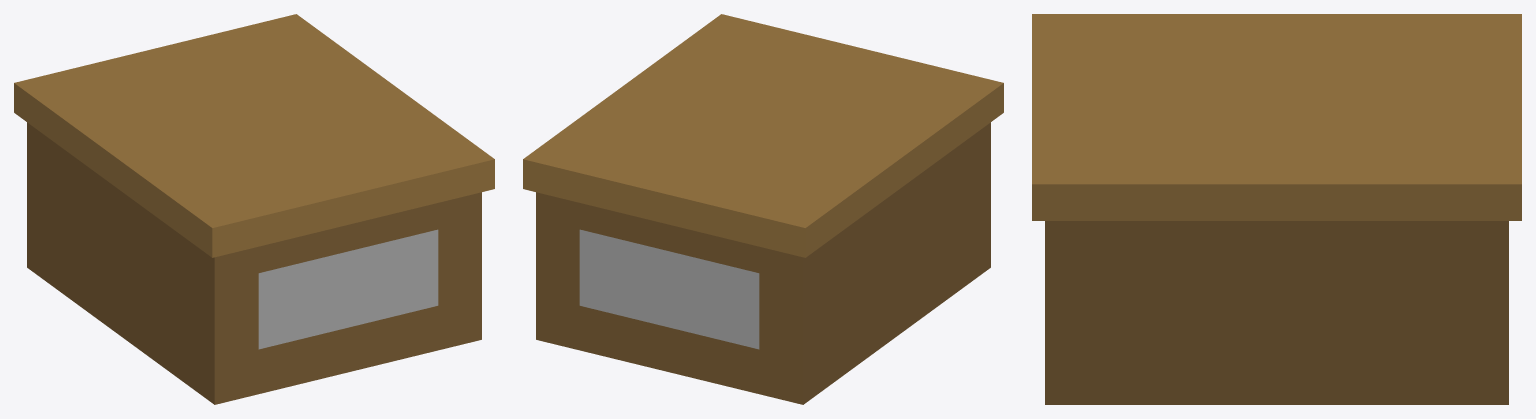
Rendered from ShoeBox2.glb.
The picture shows the model from 3 angles, left to right: view 1: azimuth 30°, elevation 25°; view 2: azimuth 150°, elevation 25°; view 3: azimuth 270°, elevation 25°; orthographic projection. The views are drawn at different scales.
Parts seen in each view (by area): view 1: SI_Prop_Shoe_Box_02; view 2: SI_Prop_Shoe_Box_02; view 3: SI_Prop_Shoe_Box_02.
Boxes of the visible parts, bbox=[...] form: SI_Prop_Shoe_Box_02: bbox=[14, 14, 494, 404]; SI_Prop_Shoe_Box_02: bbox=[523, 14, 1003, 404]; SI_Prop_Shoe_Box_02: bbox=[1032, 14, 1521, 404].
Bounding box in the file's own units: 0.00539 × 0.00333 × 0.00656.
1 material, 1 textured.
